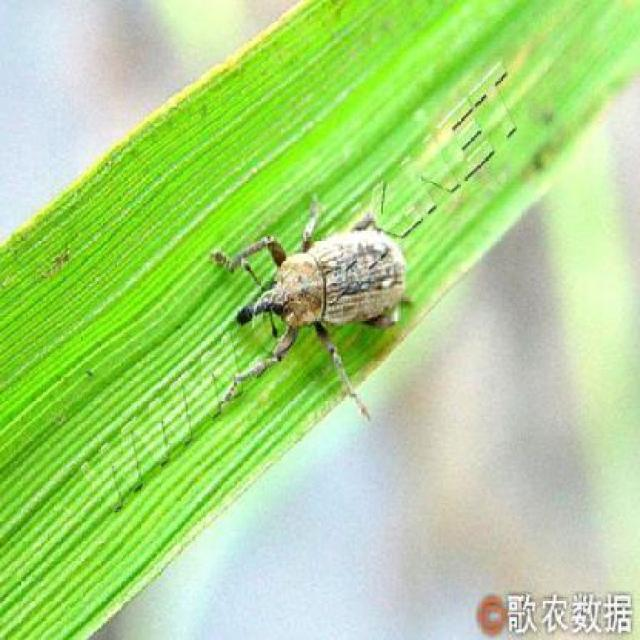rice-bug: (220, 202, 414, 384)
